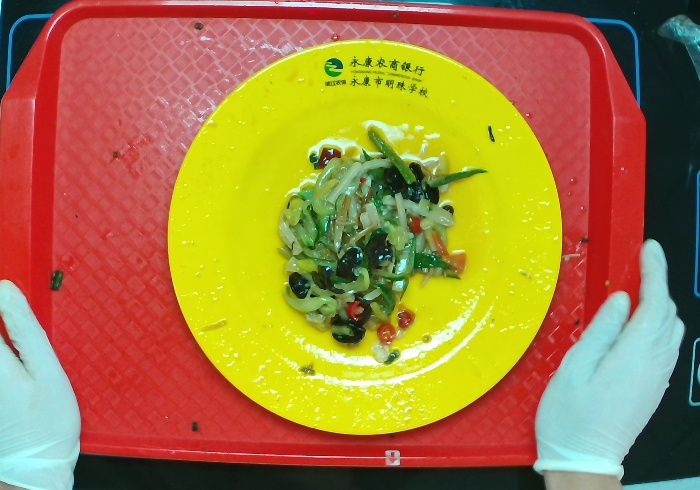YKMZ-Huang_Se_Mian_Pan: (144, 32, 581, 454)
